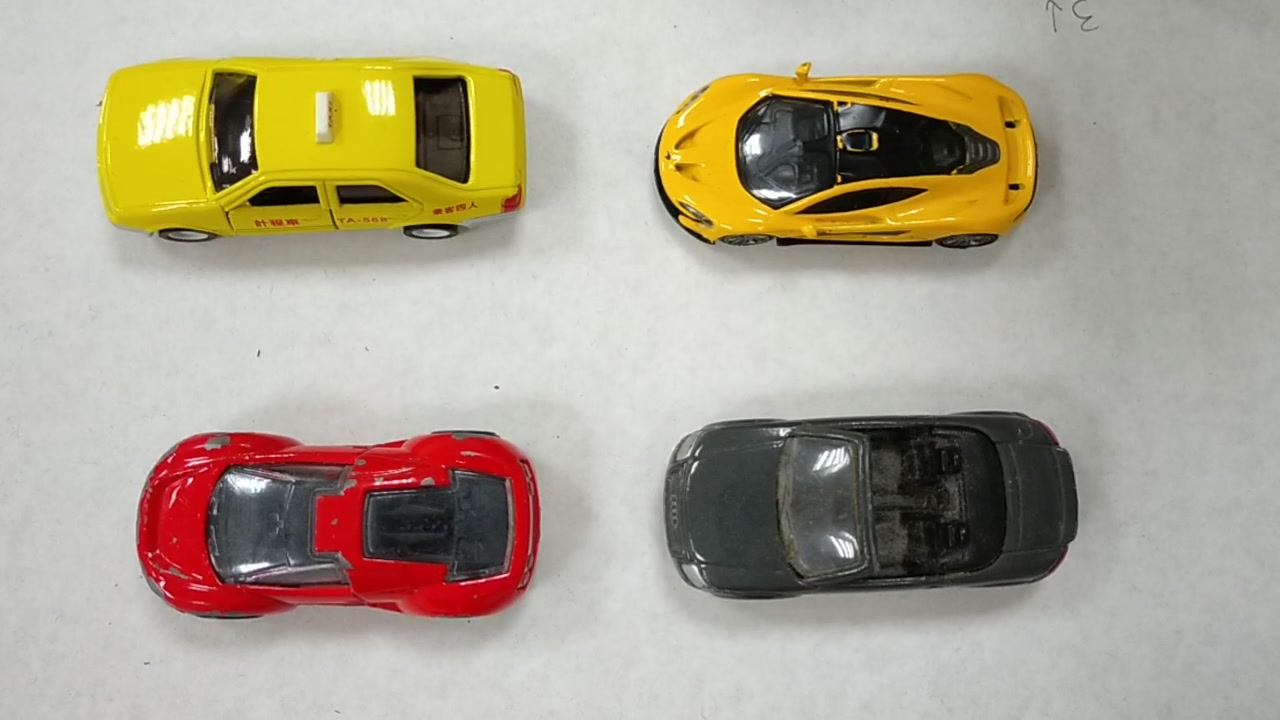car: (665, 416, 1078, 613), (131, 428, 552, 617), (93, 63, 534, 233), (656, 85, 1038, 249)
